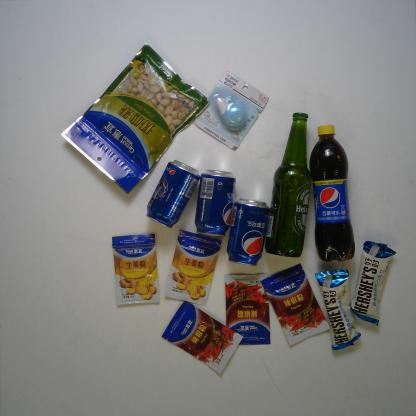Alcohol: (265, 112, 311, 258)
Chocolate: (349, 240, 398, 326), (314, 269, 362, 351)
Dried Fruit: (60, 42, 210, 194)
Drink: (309, 124, 355, 262), (146, 160, 200, 228), (226, 198, 270, 266), (194, 168, 236, 237)
Seasoner: (161, 301, 244, 374), (260, 263, 330, 346), (163, 229, 222, 307), (112, 233, 160, 306), (224, 273, 271, 345)
Stationery: (191, 70, 269, 152)
